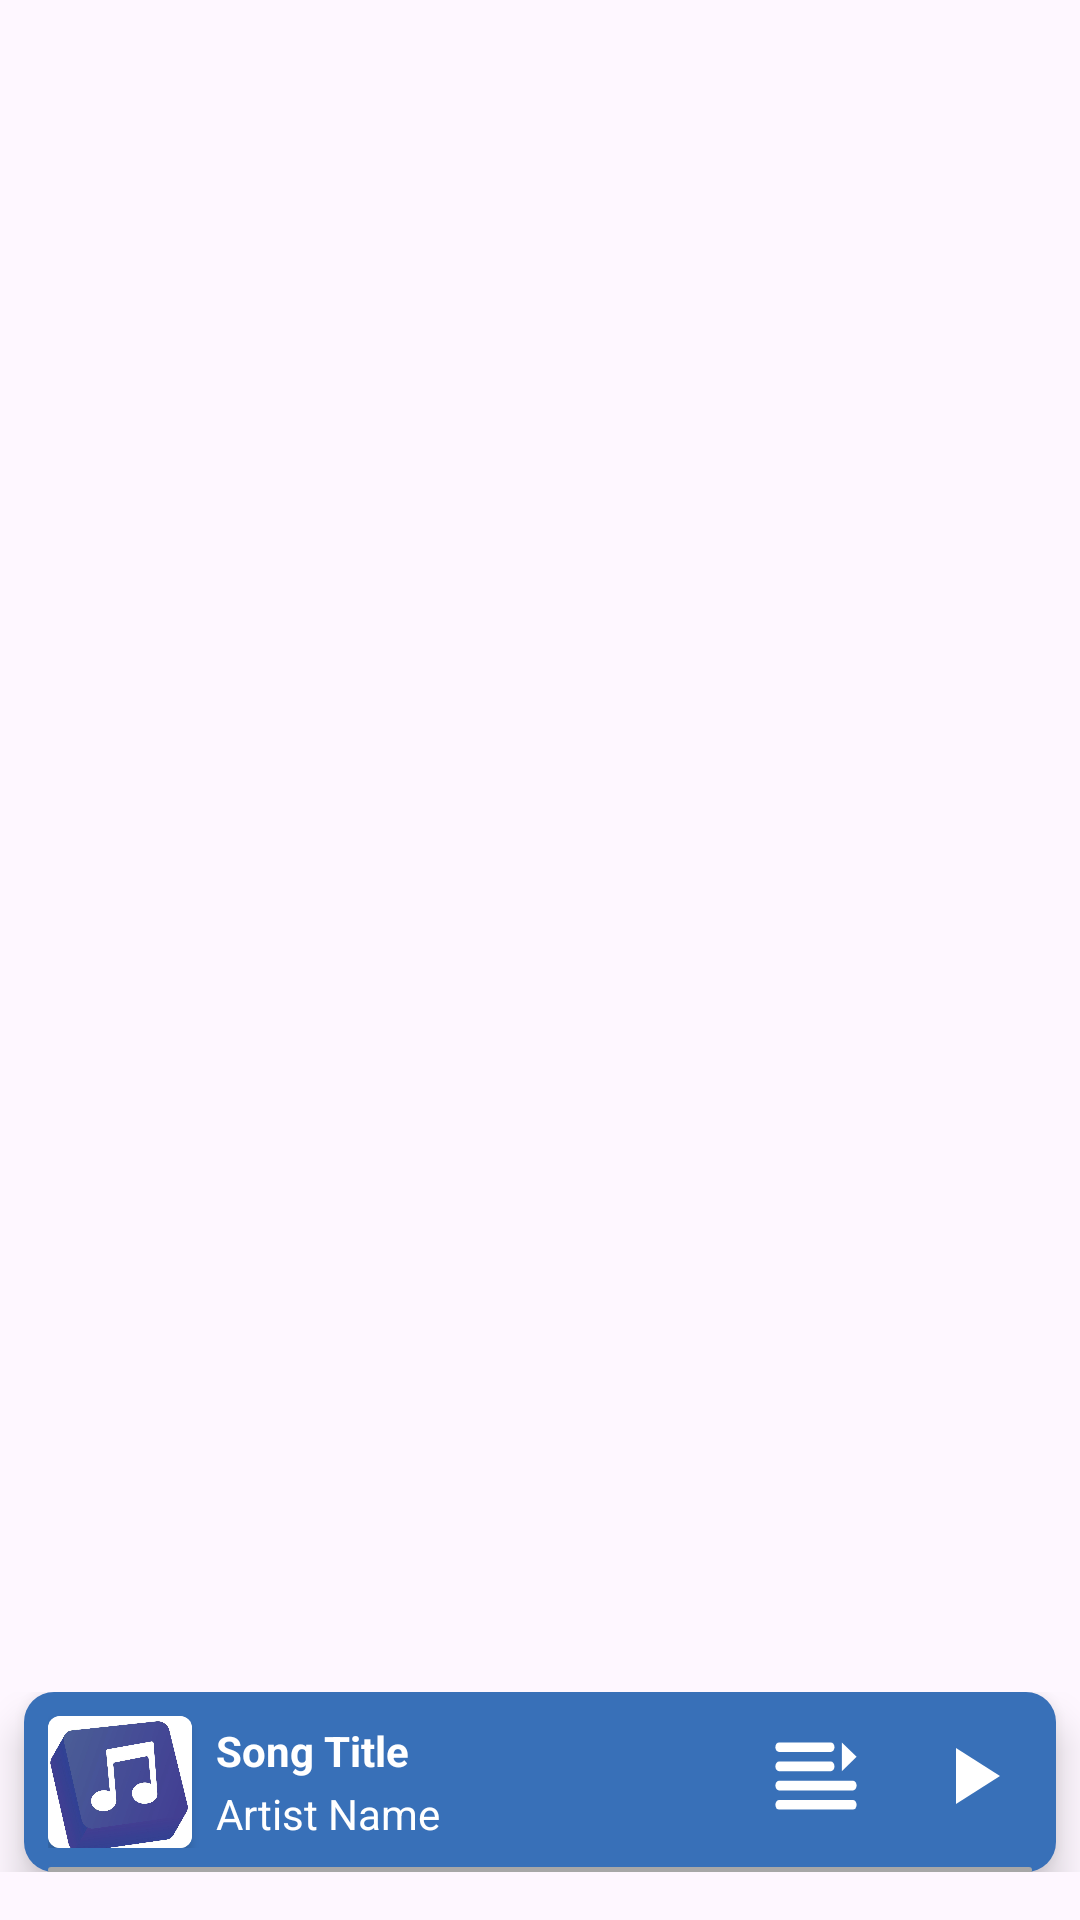

Named icons in this screenshot (1080×1920) and their bounding boxes, bbox(x1, y1, x2, y2):
Hình ảnh bài hát: bbox(48, 1716, 192, 1848)
Nút hàng đợi: bbox(775, 1742, 857, 1810)
Nút phát: bbox(956, 1748, 1000, 1804)
